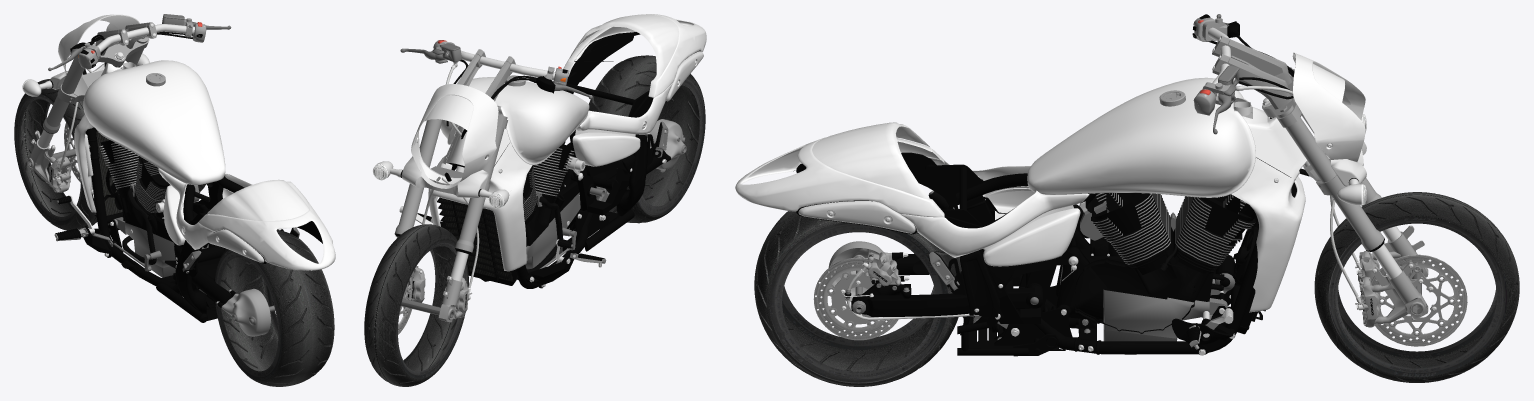
The model's file is stock_M109R.glb.
3 views of the same model, side by side, from view 1: azimuth 30°, elevation 25°; view 2: azimuth 150°, elevation 25°; view 3: azimuth 270°, elevation 25° (orthographic). The views are drawn at different scales.
Parts seen in each view (by area): view 1: Tank, TireSidewalls, FrontTire, material.12535, TailStripe_Big, material.4808, material.018, material.2615, material.2653, material.5021, OilPan, material.12456 (+22 smaller); view 2: FrontTire, TireSidewalls, Tank, material.050, Retopo_material.001, ForkTubes, material.12535, TailStripe_Big, material.018, material.5099, material.12456, material.006 (+30 smaller); view 3: Tank, FrontTire, TireSidewalls, material.4808, material.12535, material.018, Retopo_material.001, material.050, material.12456, TailStripe_Big, material.006, OilPan (+27 smaller).
Part boxes in pixels (left/top/right/bottom): Tank: left=83, top=60, right=225, bottom=184; TireSidewalls: left=215, top=230, right=334, bottom=386; FrontTire: left=14, top=79, right=97, bottom=230; material.12535: left=198, top=203, right=335, bottom=270; TailStripe_Big: left=207, top=179, right=309, bottom=220; material.4808: left=99, top=143, right=206, bottom=242; material.018: left=100, top=139, right=170, bottom=228; material.2615: left=221, top=288, right=270, bottom=336; material.2653: left=56, top=184, right=210, bottom=271; material.5021: left=88, top=141, right=168, bottom=285; OilPan: left=124, top=222, right=208, bottom=277; material.12456: left=158, top=168, right=281, bottom=249; FrontTire: left=364, top=224, right=468, bottom=386; TireSidewalls: left=588, top=55, right=705, bottom=223; Tank: left=440, top=77, right=589, bottom=164; material.050: left=411, top=84, right=498, bottom=184; Retopo_material.001: left=428, top=125, right=532, bottom=271; ForkTubes: left=395, top=115, right=507, bottom=252; material.12535: left=563, top=14, right=706, bottom=97; TailStripe_Big: left=569, top=14, right=679, bottom=80; material.018: left=494, top=141, right=573, bottom=245; material.5099: left=439, top=197, right=517, bottom=285; material.12456: left=568, top=58, right=673, bottom=136; material.006: left=572, top=132, right=640, bottom=166; Tank: left=1027, top=77, right=1255, bottom=197; FrontTire: left=1314, top=192, right=1519, bottom=382; TireSidewalls: left=754, top=211, right=961, bottom=386; material.4808: left=1062, top=193, right=1255, bottom=301; material.12535: left=735, top=137, right=944, bottom=217; material.018: left=1085, top=193, right=1255, bottom=302; Retopo_material.001: left=1231, top=157, right=1305, bottom=312; material.050: left=1292, top=52, right=1365, bottom=161; material.12456: left=901, top=157, right=1089, bottom=257; TailStripe_Big: left=812, top=122, right=929, bottom=199; material.006: left=983, top=188, right=1080, bottom=266; OilPan: left=1060, top=265, right=1209, bottom=341.
Size of what is drawn, in the model's own units: 0.8588 by 1.13 by 2.4.
Materials: 29 (11 with a texture image).
